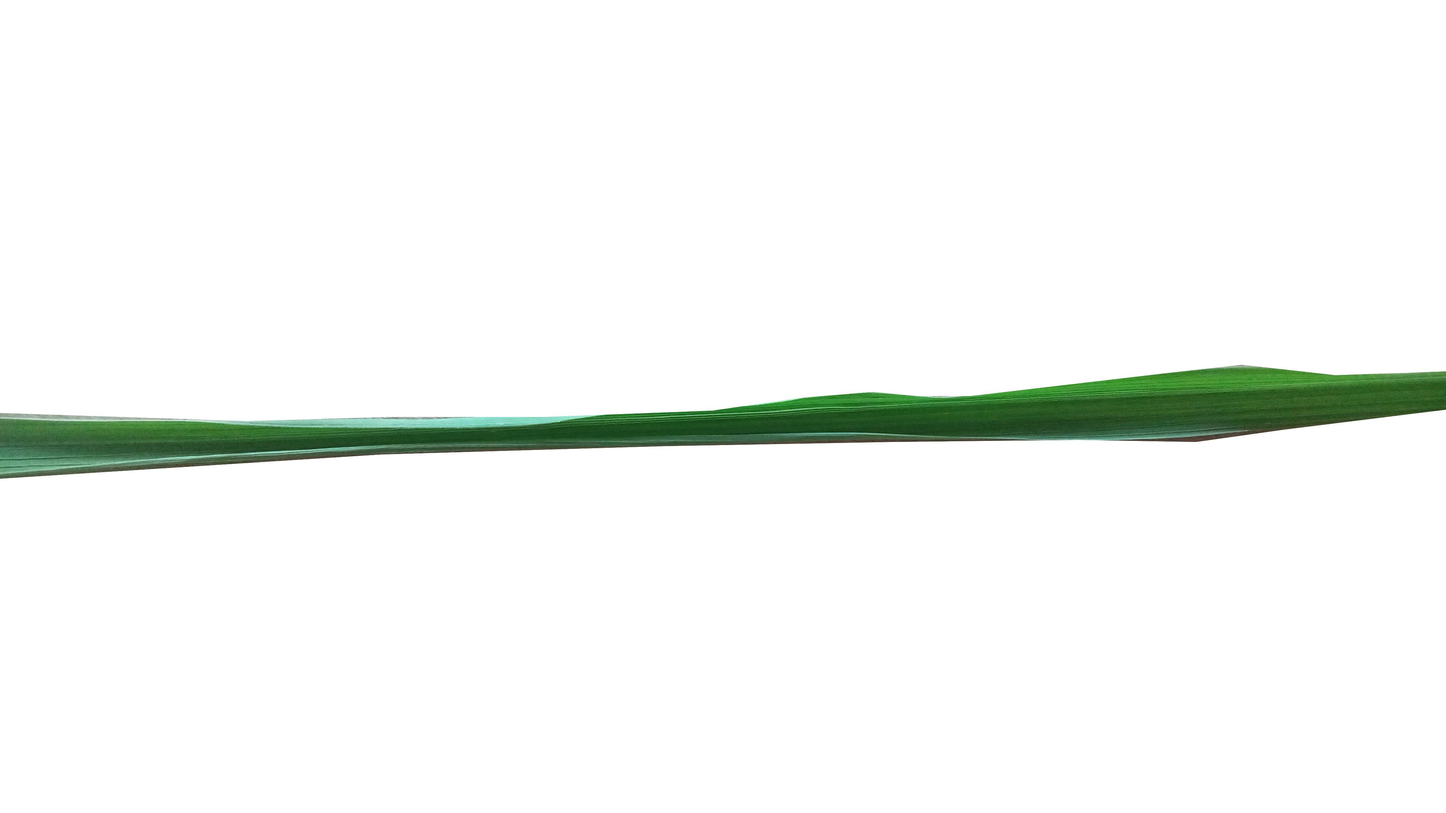Healthy: (0, 368, 1446, 477)
